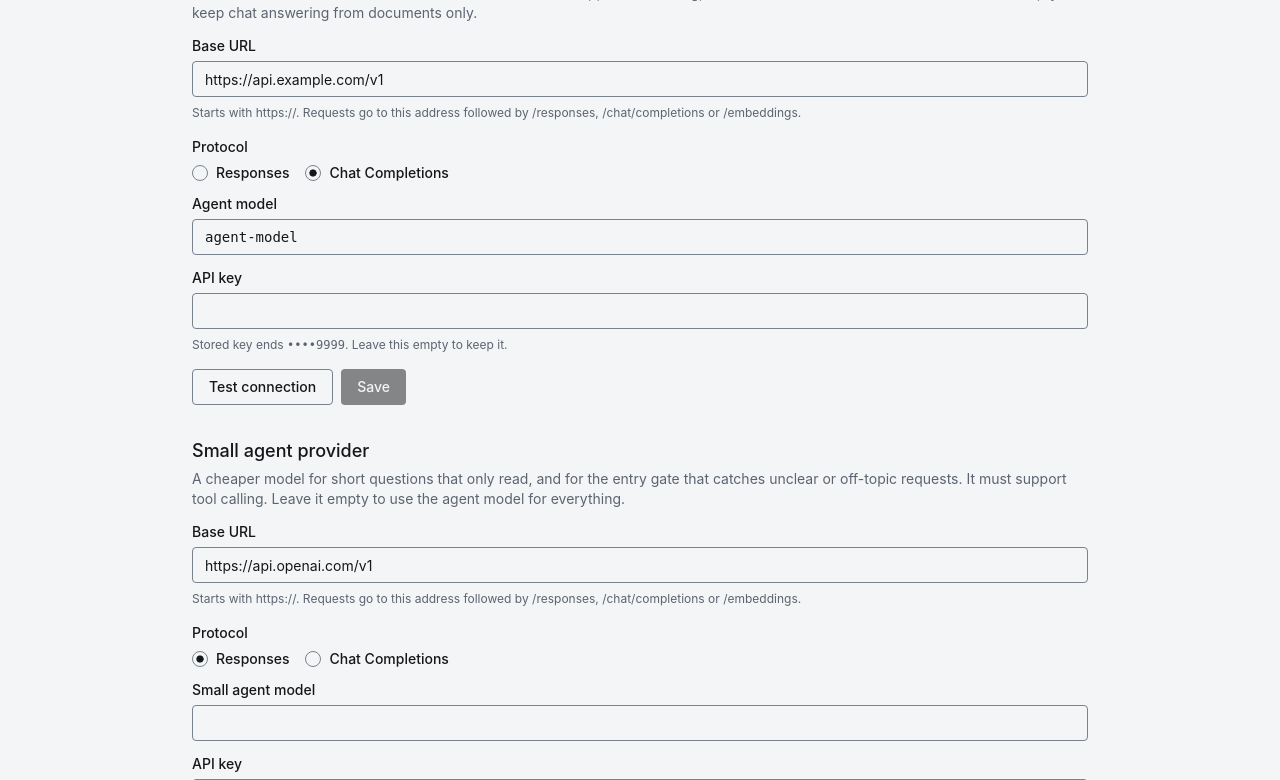
Test: shows the agent provider as a third setting and tests it on its own
The width and height of the screenshot is (1280, 780).
(page scrolled)
Expected: the field labelled "Agent model" holds "agent-model", top-left (192, 219), bottom-right (1088, 255)
Expected: the text "••••9999" is shown, top-left (287, 338), bottom-right (345, 352)
Click the button with aria-label "Test agent connection" at (263, 387), box top-left (192, 369), bottom-right (333, 405)
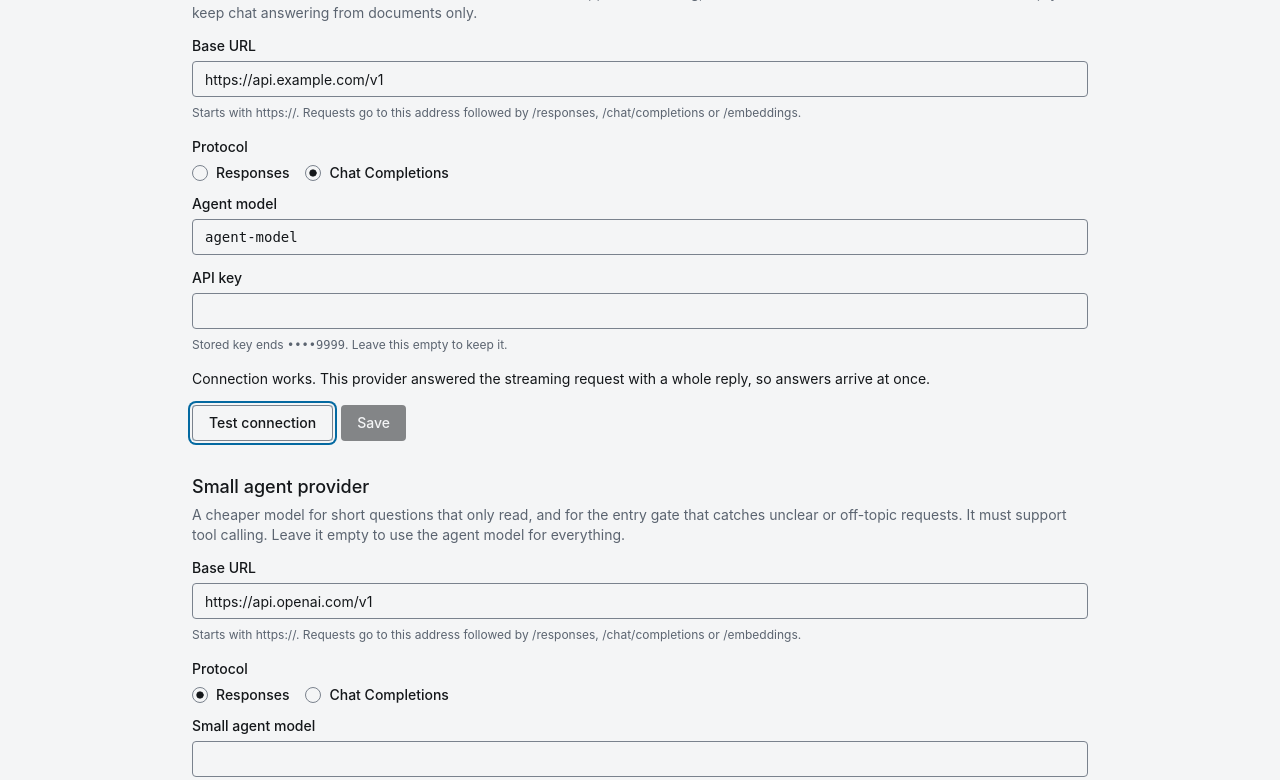
Now the text "Connection works." is shown, box top-left (192, 370), bottom-right (316, 387)
Now the text "answered the streaming request with a whole" is shown, box top-left (320, 370), bottom-right (930, 387)
